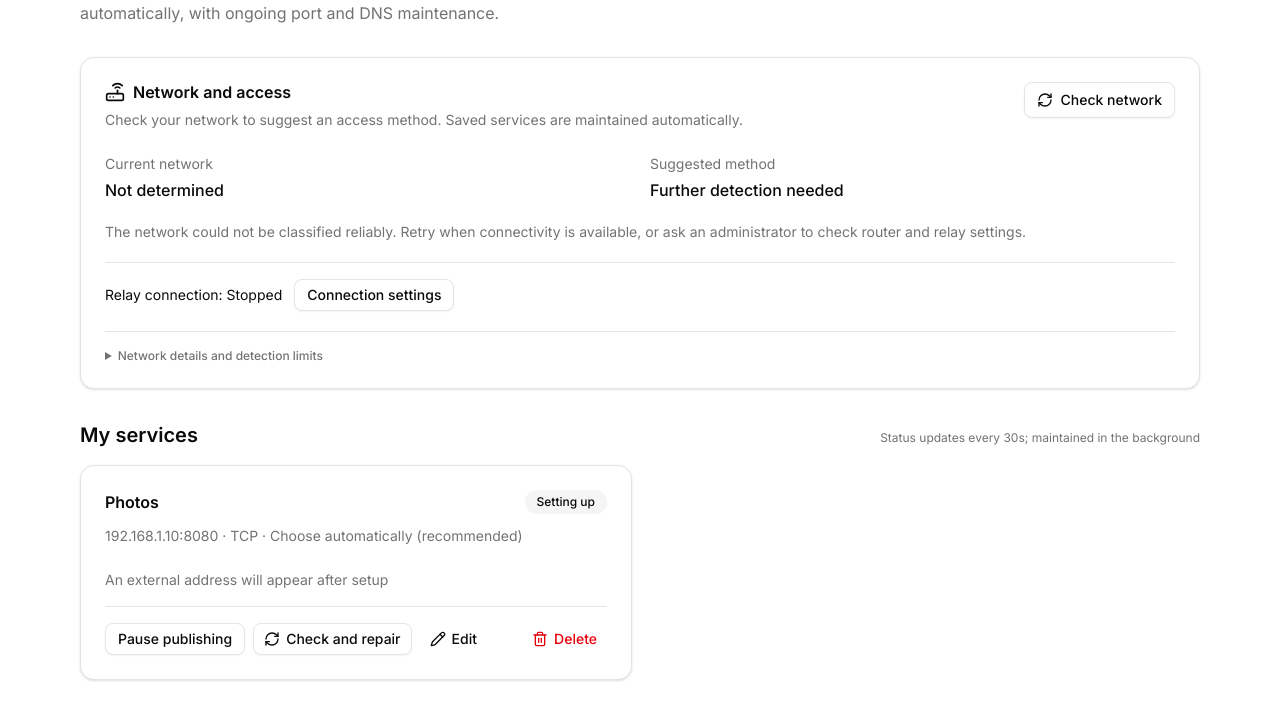
it: public dialog keyboard focus (en) › keeps the current state and reports a failed toggle
(page scrolled)
Click the button "Pause publishing" at (175, 639), box [105,623,245,655]
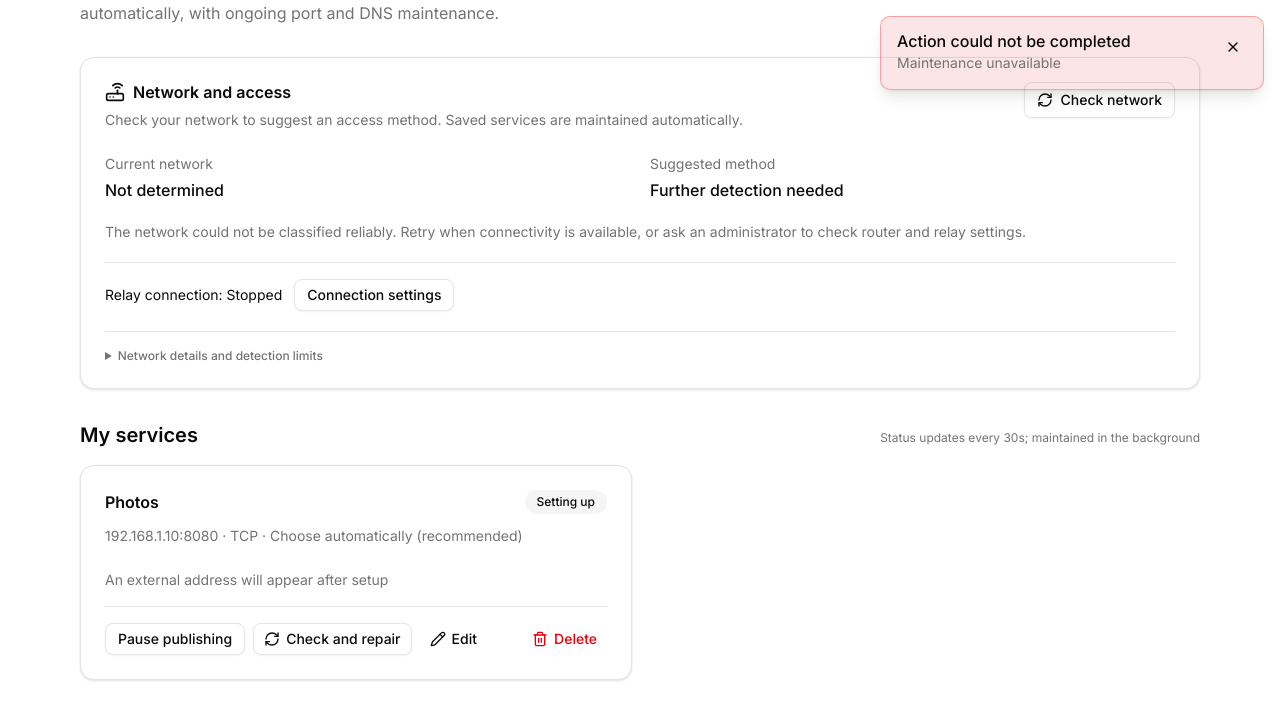
Expected: the text "Maintenance unavailable" is shown, [897,54,1061,71]
